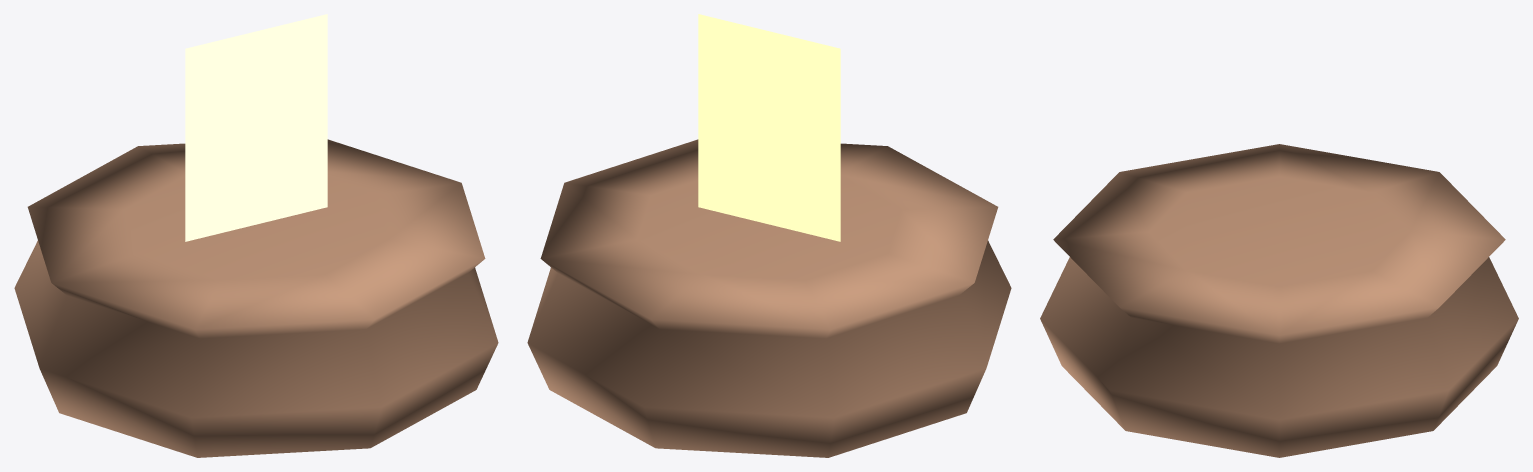
File: diya-kit.glb
3 renders of one model, left to right at view 1: azimuth 30°, elevation 25°; view 2: azimuth 150°, elevation 25°; view 3: azimuth 270°, elevation 25°, orthographic. The views are drawn at different scales.
Parts seen in each view (by area): view 1: diya, flame; view 2: diya, flame; view 3: diya.
Boxes of the visible parts, box(x1,y1,x2,y2) form: diya: box(14, 139, 498, 457); flame: box(185, 14, 327, 241); diya: box(527, 139, 1011, 457); flame: box(698, 14, 840, 241); diya: box(1040, 144, 1518, 457).
Size of the model in its own units: 0.11 by 0.0808 by 0.11.
